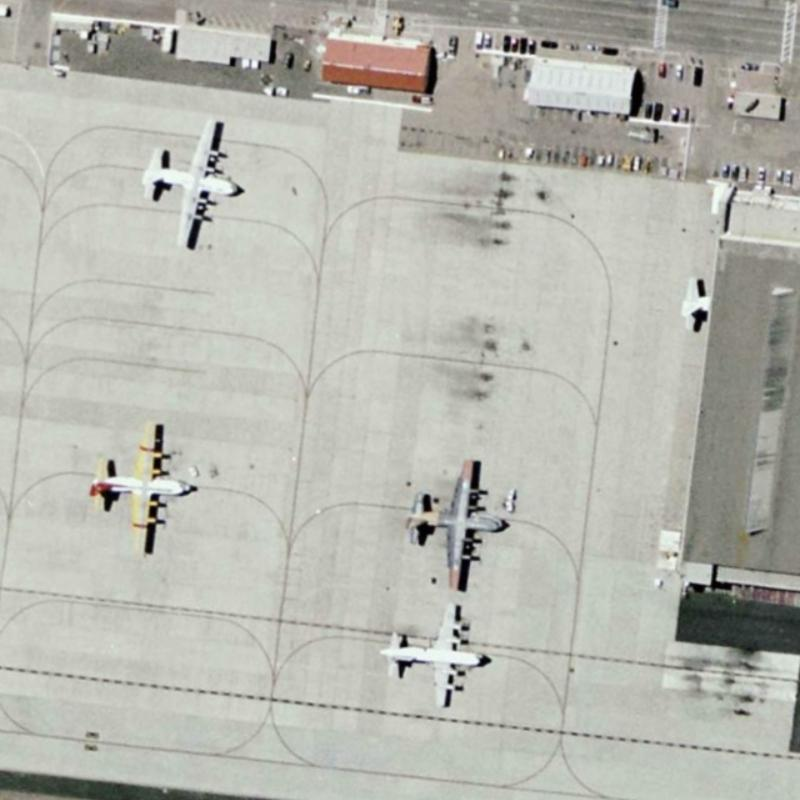A2: (79, 415, 198, 560), (394, 443, 509, 590), (135, 110, 245, 254)
A9: (381, 593, 489, 714)
